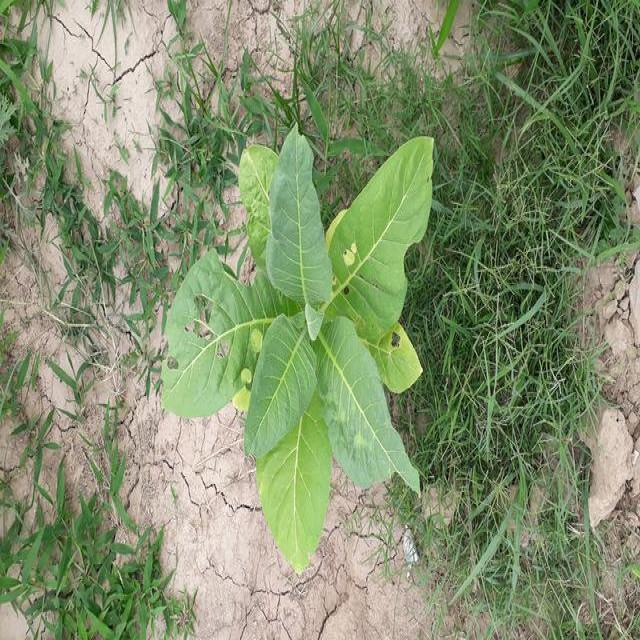crop: (162, 126, 434, 573)
